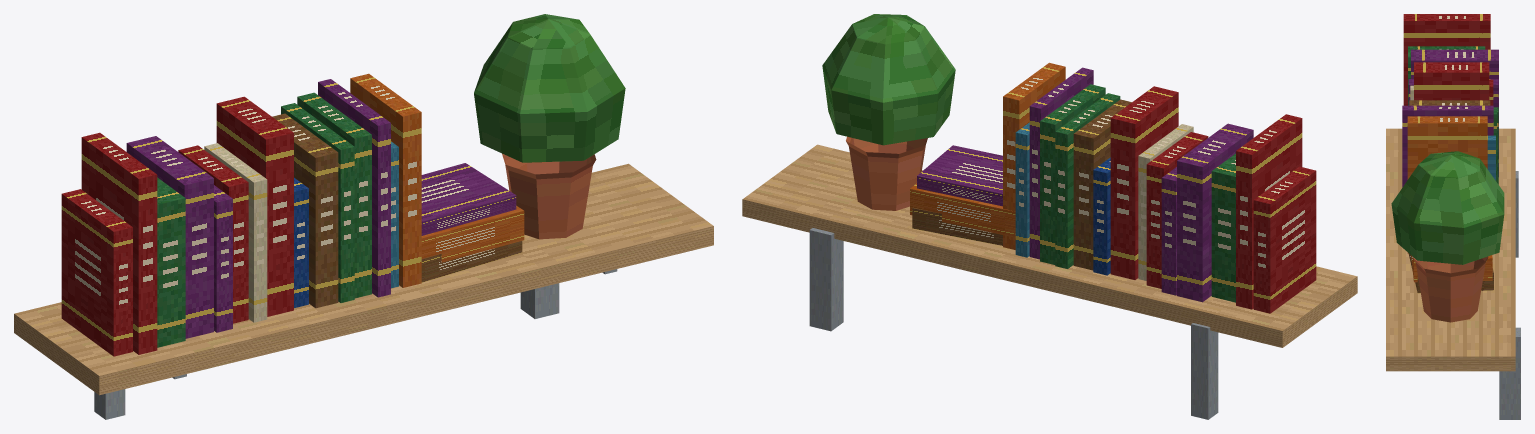
File: WallShelf_Normal.fbx
The picture shows the model from 3 angles, left to right: view 1: azimuth 30°, elevation 25°; view 2: azimuth 150°, elevation 25°; view 3: azimuth 270°, elevation 25°; orthographic projection. The views are drawn at different scales.
Visible parts, largest first — view 1: WallShelf.001; view 2: WallShelf.001; view 3: WallShelf.001.
Boxes of the visible parts, bbox=[...] form: WallShelf.001: bbox=[14, 14, 713, 419]; WallShelf.001: bbox=[742, 14, 1357, 419]; WallShelf.001: bbox=[1386, 14, 1520, 419].
Bounding box in the file's own units: 100 × 51 × 25.
